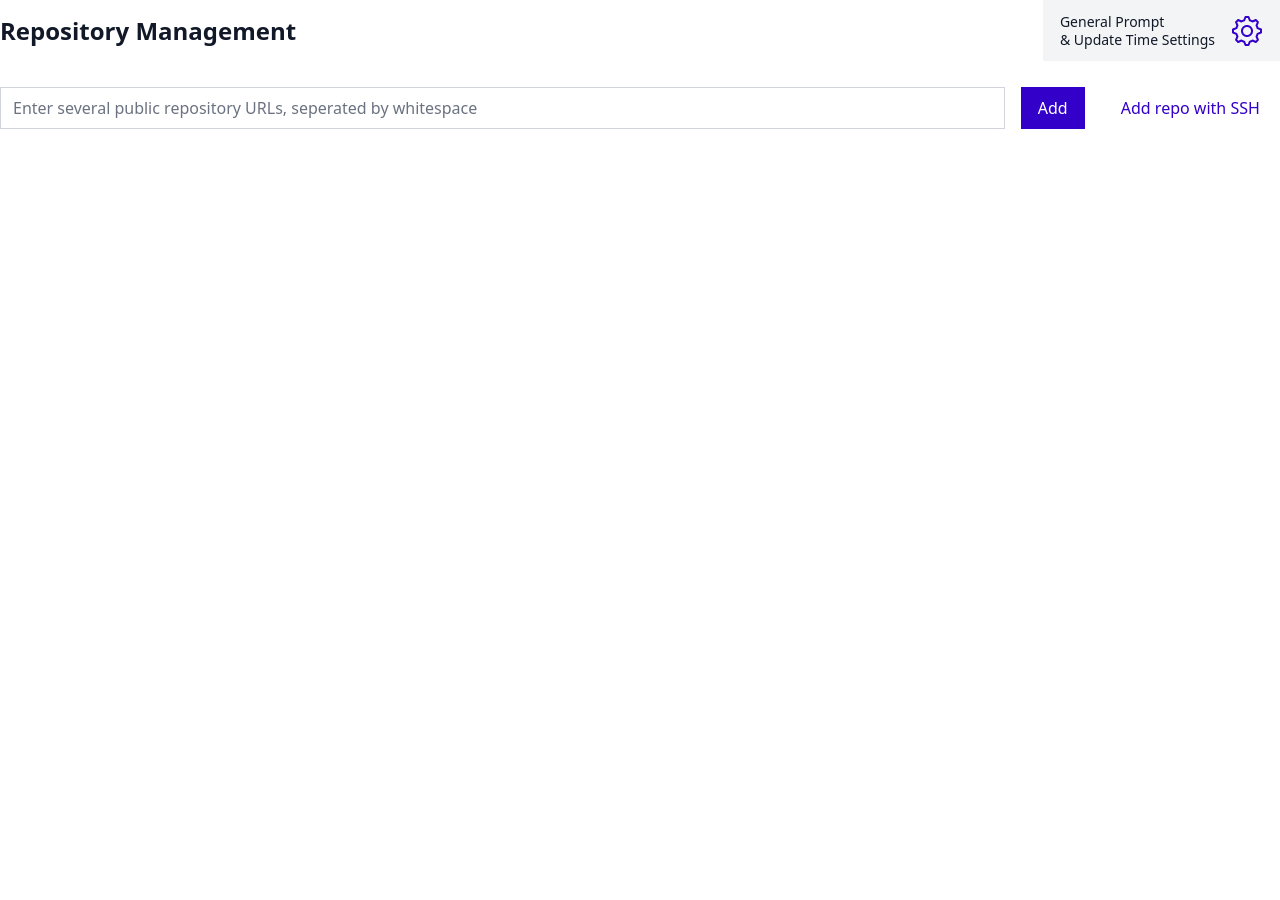
AdminRepoHeader - Integration Tests › closes SSH popup when close button is clicked
Note: Open popup
Click the button "Add repo with SSH" at (1190, 108), box x1=1101 y1=85 x2=1279 y2=130
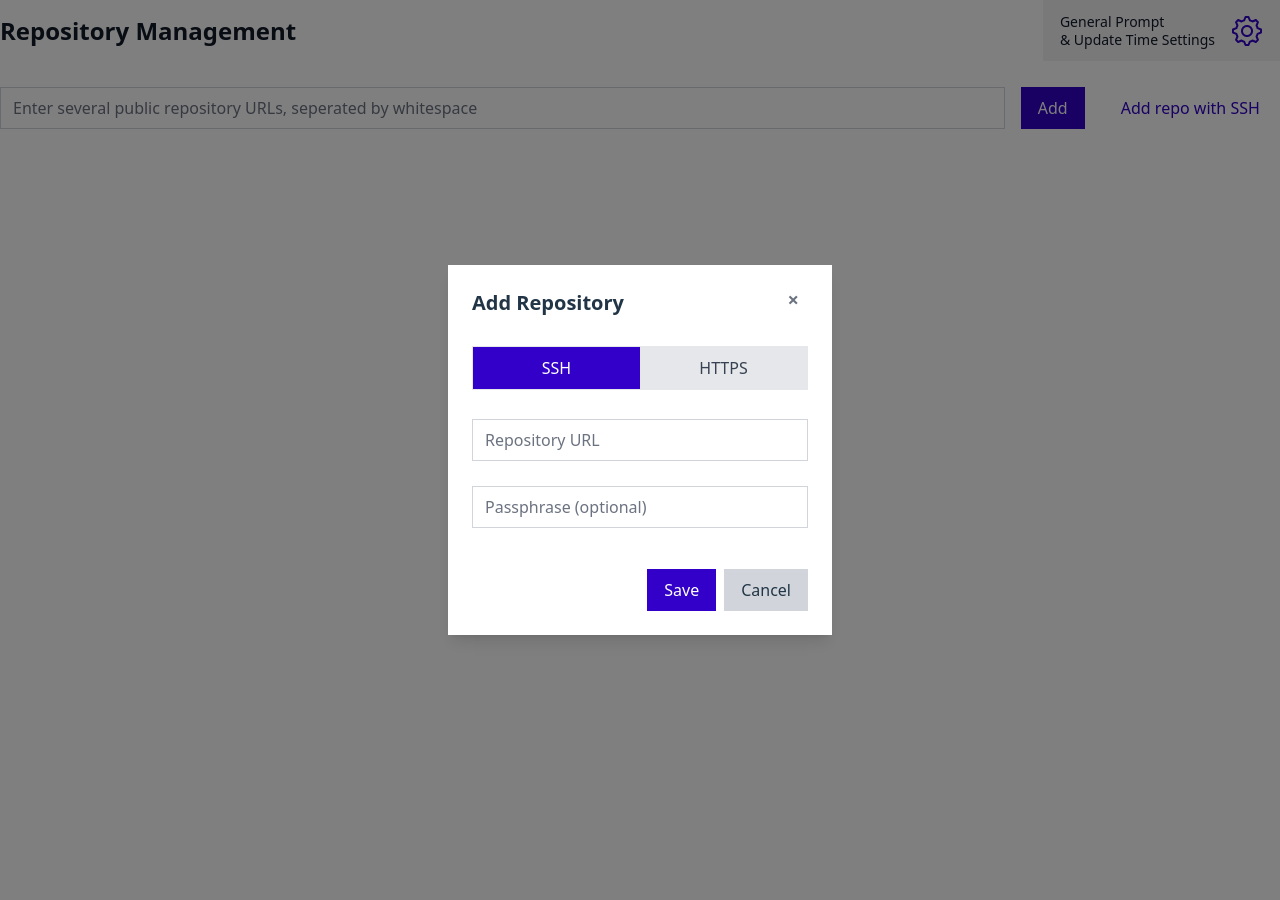
Expected: the heading "Add Repository" is shown, x1=472 y1=289 x2=624 y2=316
Note: Close popup
Click the button "×" at (793, 300), box x1=762 y1=273 x2=824 y2=327
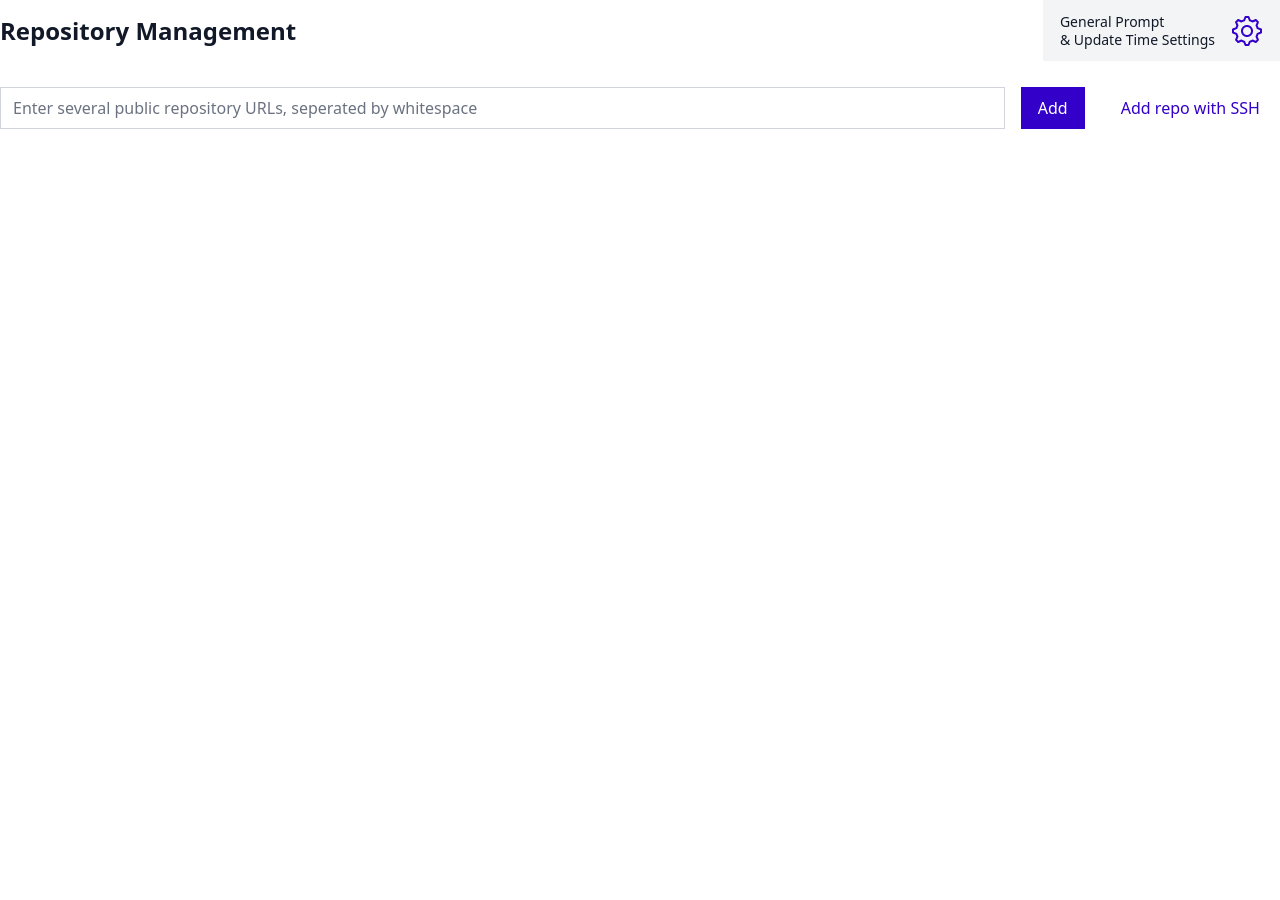
Expected: the heading "Add Repository" is gone
